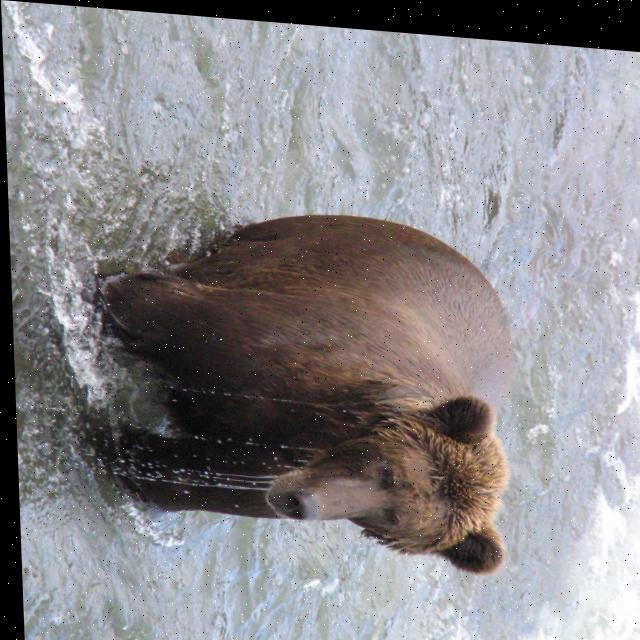bear face: (101, 194, 516, 572)
